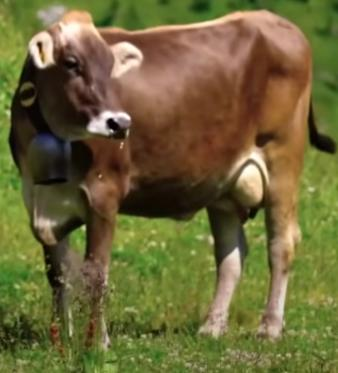cow: (7, 8, 338, 358)
